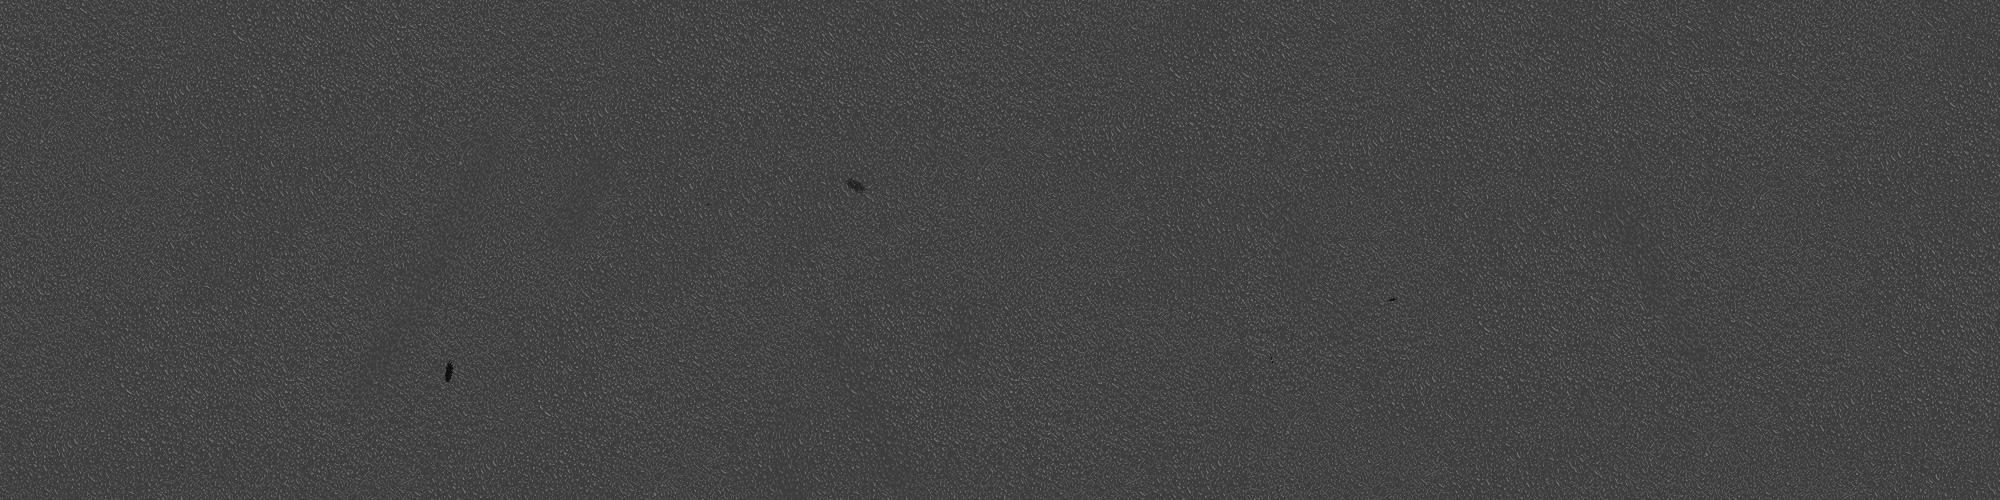Decomposed: (841, 179, 874, 195), (1379, 293, 1402, 309), (441, 362, 460, 379)
